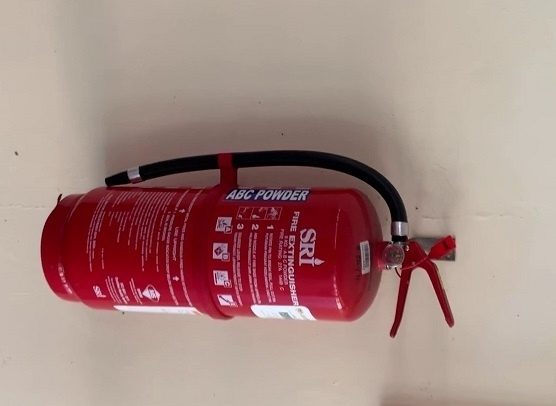fire_extinguisher: (40, 149, 456, 337)
